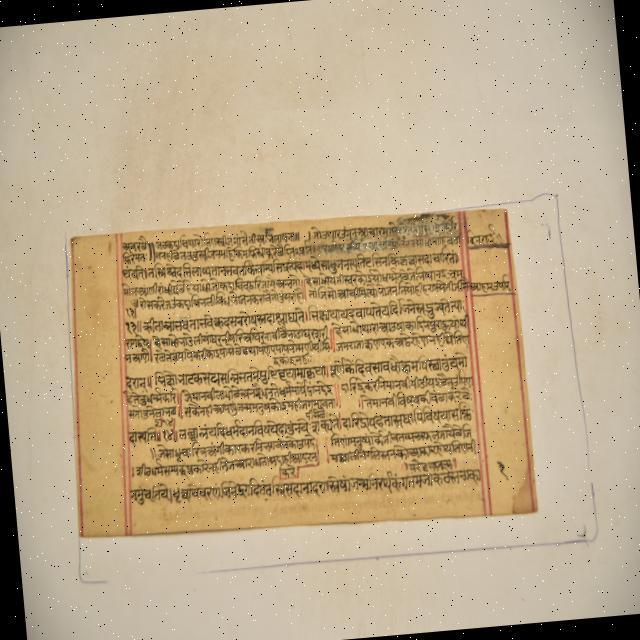text_paragraph: (72, 207, 535, 534)
